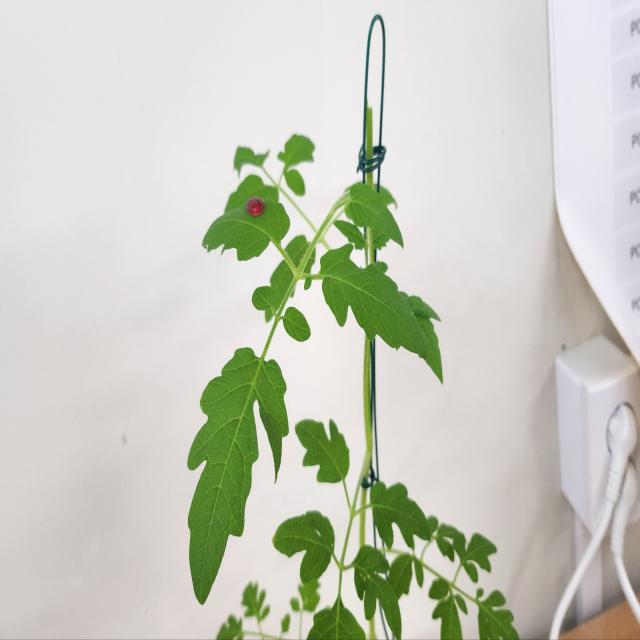bug: (244, 190, 268, 220)
